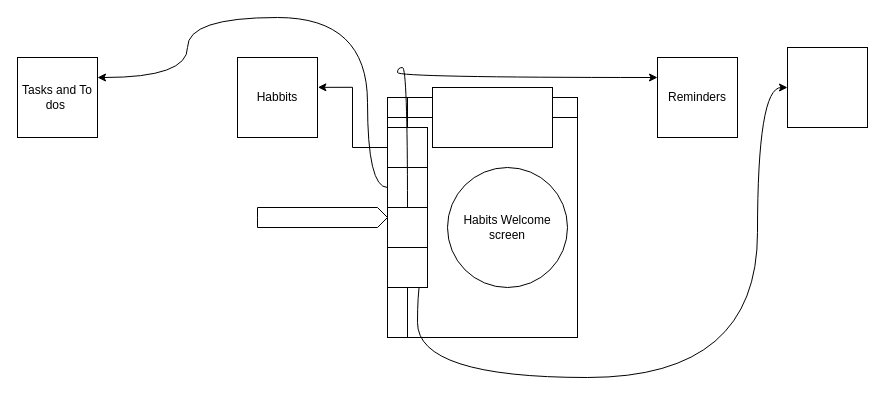
The diagram is 885 pixels wide and 395 high, and some of its shapes have lost their labels. Here are the shapes that lost their labels. From the top down, the centre of each, then its label:
At [492,117]: "App Bar".
At [322,217]: "SideNavigationBar".
